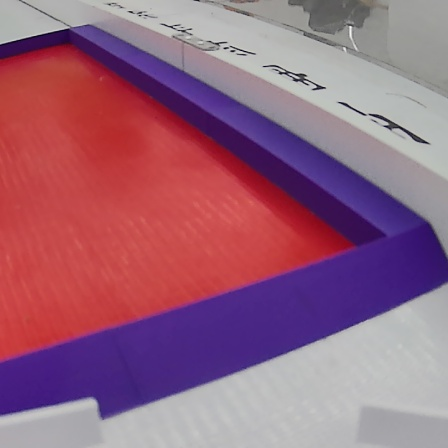red_aim: (0, 22, 445, 429)
